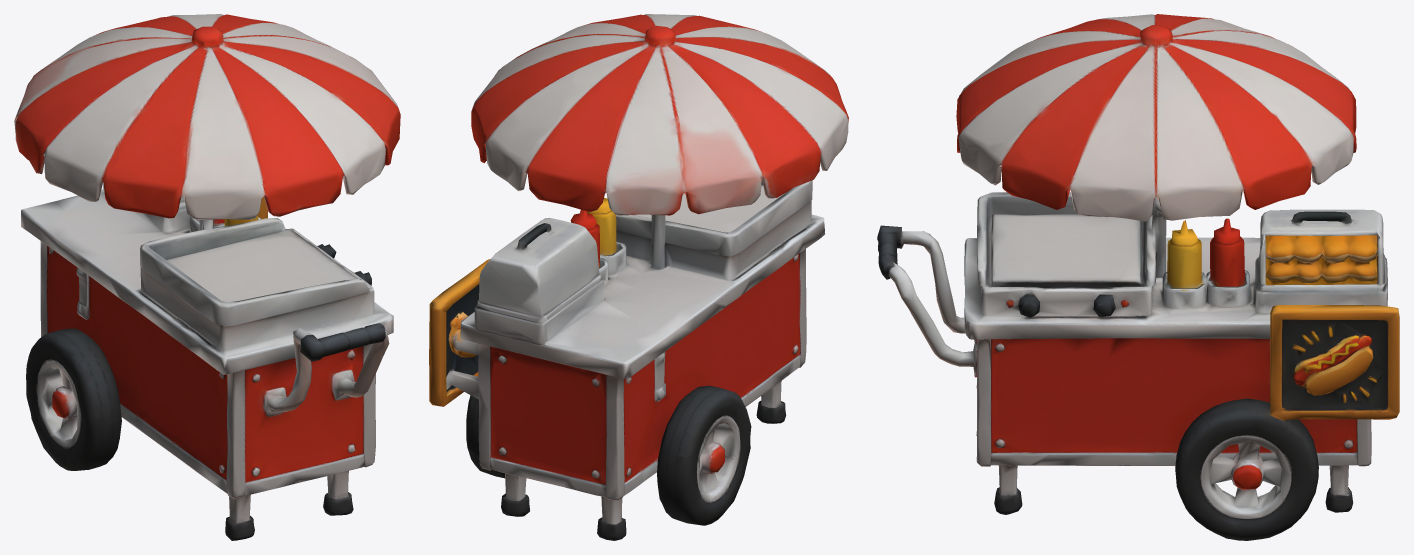
File: cart_tripo.glb
3 views of the same model, side by side, from view 1: azimuth 30°, elevation 25°; view 2: azimuth 150°, elevation 25°; view 3: azimuth 270°, elevation 25° (orthographic). The views are drawn at different scales.
Parts seen in each view (by area): view 1: tripo_node_93377d57-0a1b-4e39-b154-3a5575370c1d; view 2: tripo_node_93377d57-0a1b-4e39-b154-3a5575370c1d; view 3: tripo_node_93377d57-0a1b-4e39-b154-3a5575370c1d.
Part boxes in pixels (x1=…): tripo_node_93377d57-0a1b-4e39-b154-3a5575370c1d: x1=14, y1=14, x2=400, y2=540; tripo_node_93377d57-0a1b-4e39-b154-3a5575370c1d: x1=429, y1=14, x2=848, y2=540; tripo_node_93377d57-0a1b-4e39-b154-3a5575370c1d: x1=877, y1=14, x2=1399, y2=540.
Size of the model in its own units: 0.747 by 0.9599 by 1.
1 material, 1 textured.
